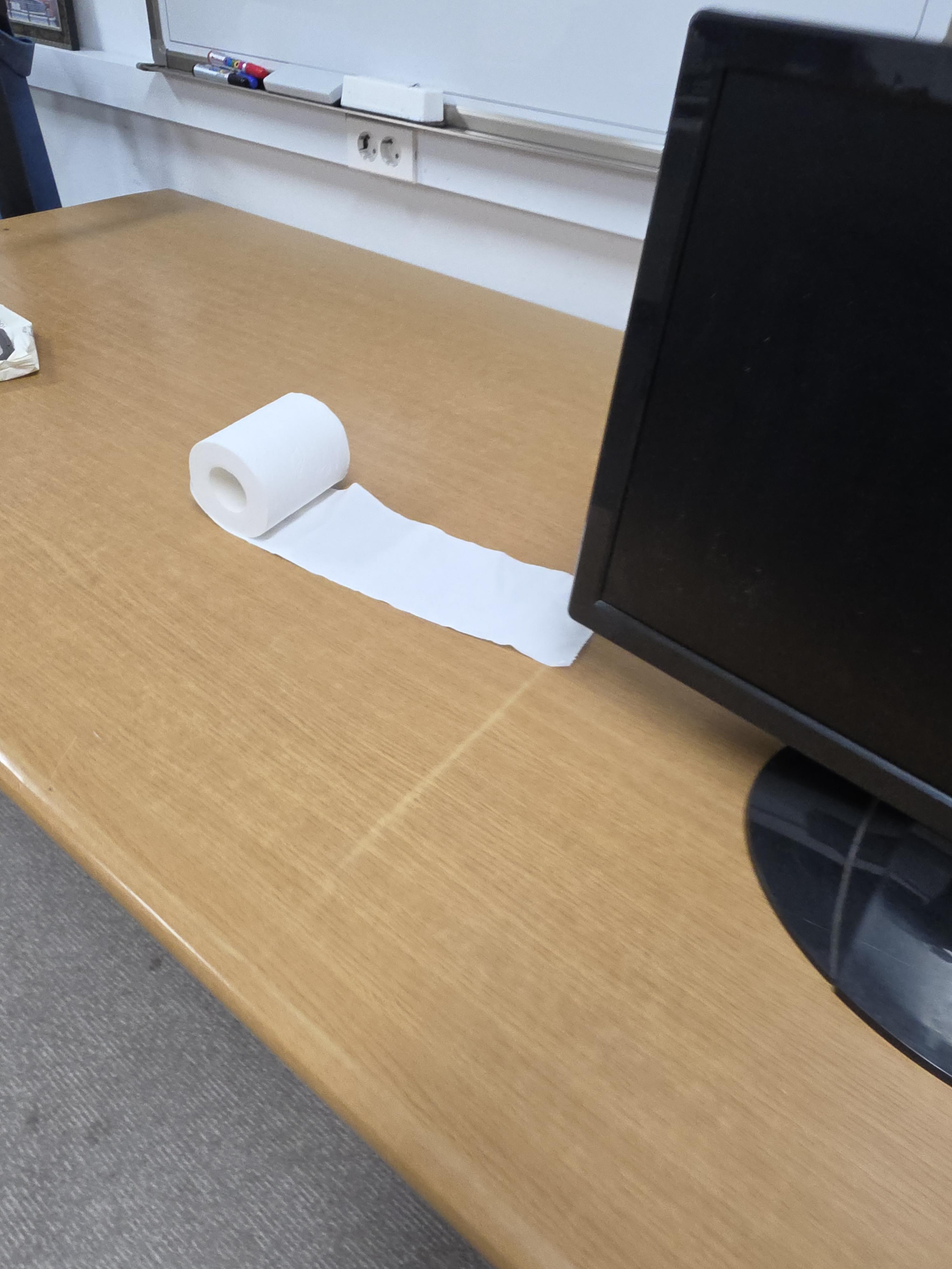tissue: (188, 392, 596, 668)
